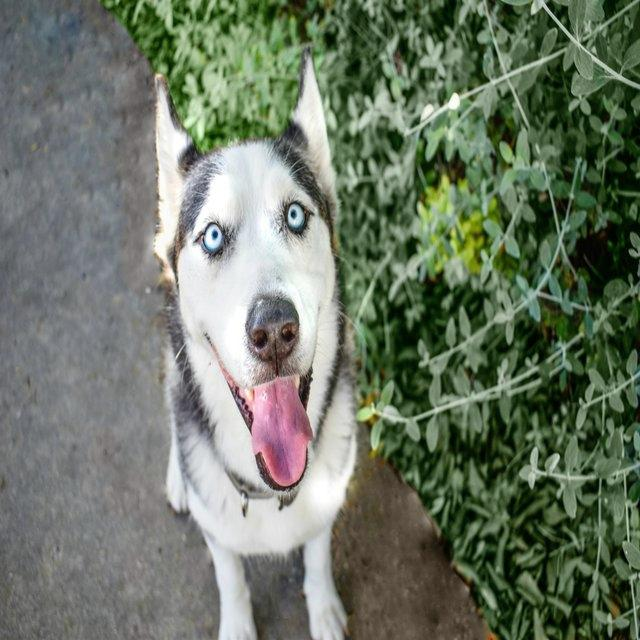husky: (152, 44, 362, 639)
